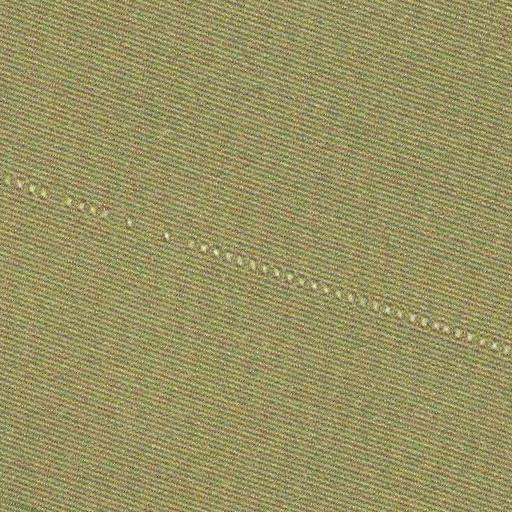slub: (5, 157, 512, 372)
